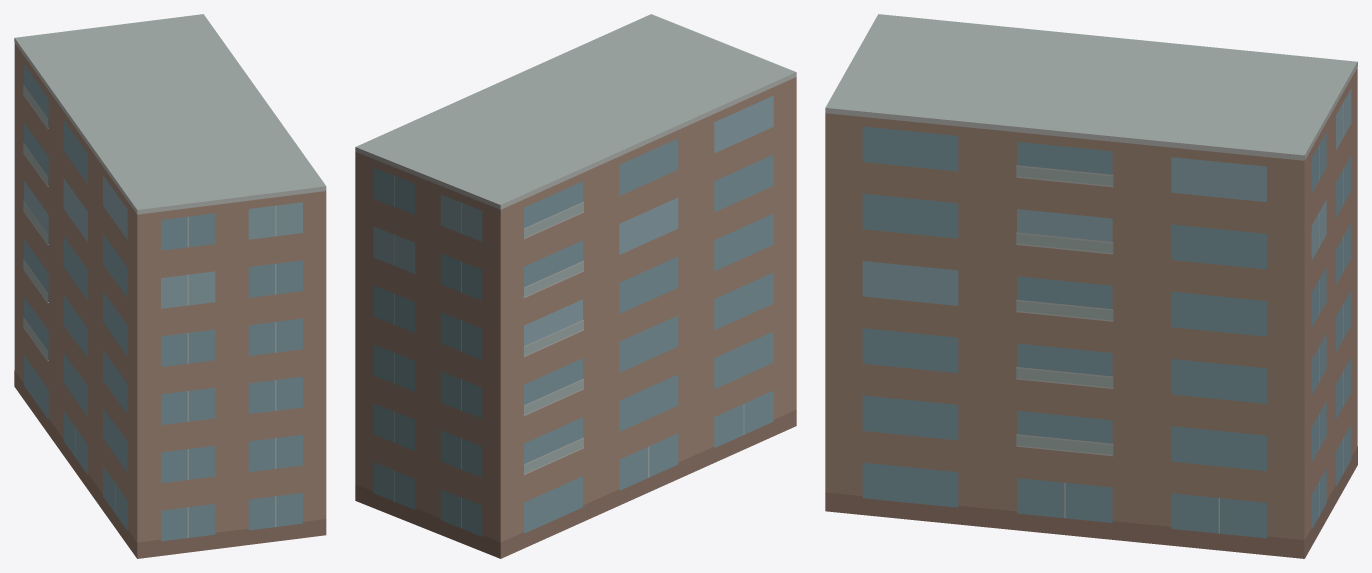
Rendered from survey-upis-32949586.glb.
3 views of the same model, side by side, from view 1: azimuth 30°, elevation 25°; view 2: azimuth 150°, elevation 25°; view 3: azimuth 270°, elevation 25° (orthographic). The views are drawn at different scales.
Parts seen in each view (by area): view 1: survey-upis-32949586.tmp; view 2: survey-upis-32949586.tmp; view 3: survey-upis-32949586.tmp.
Part boxes in pixels (x1,y1,x2,y2): survey-upis-32949586.tmp: (14, 14, 326, 558); survey-upis-32949586.tmp: (355, 14, 796, 558); survey-upis-32949586.tmp: (825, 14, 1357, 558).
Bounding box in the file's own units: 13.85 × 18.4 × 22.02.
